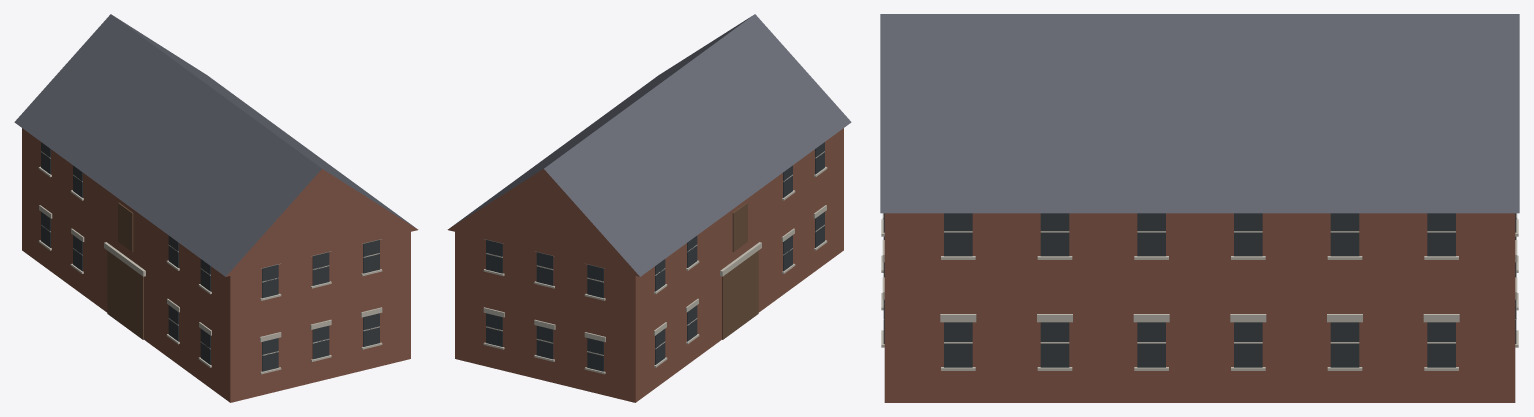
The model's file is wheeler_kohn_house_2018_calumet_coach_house__draft_1904.glb.
3 renders of one model, left to right at view 1: azimuth 30°, elevation 25°; view 2: azimuth 150°, elevation 25°; view 3: azimuth 270°, elevation 25°, orthographic. The views are drawn at different scales.
Visible parts, largest first — view 1: wheeler_kohn_house_2018_calumet_coach_house__draft_1904; view 2: wheeler_kohn_house_2018_calumet_coach_house__draft_1904; view 3: wheeler_kohn_house_2018_calumet_coach_house__draft_1904.
Part boxes in pixels (box(x1,y1,x2,y2)): wheeler_kohn_house_2018_calumet_coach_house__draft_1904: box(14, 14, 418, 402); wheeler_kohn_house_2018_calumet_coach_house__draft_1904: box(447, 14, 851, 402); wheeler_kohn_house_2018_calumet_coach_house__draft_1904: box(880, 14, 1519, 402).
Size of the model in its own units: 9.35 by 9.87 by 17.74.
